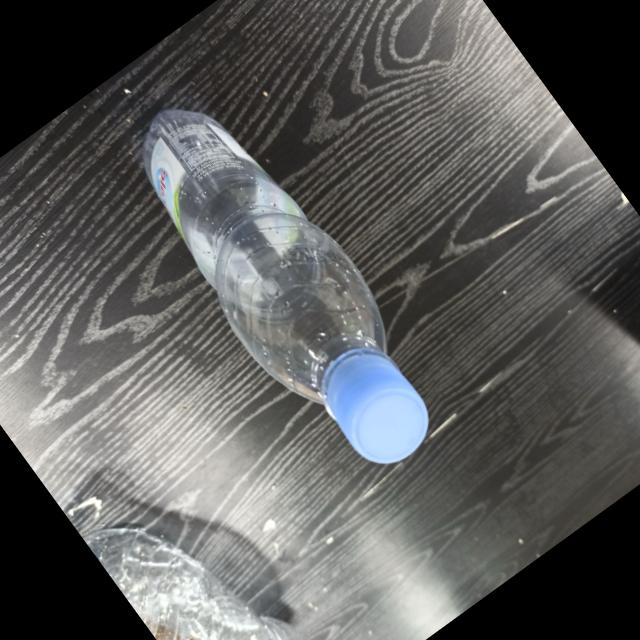BotolPlastik: (101, 70, 466, 498)
